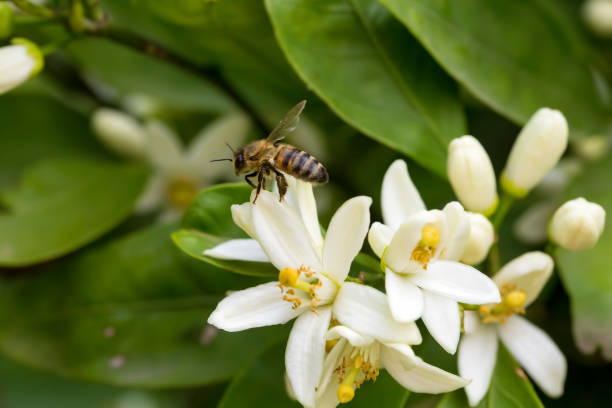flower: (199, 195, 413, 408), (355, 160, 502, 328), (450, 252, 574, 405), (312, 319, 475, 406)
